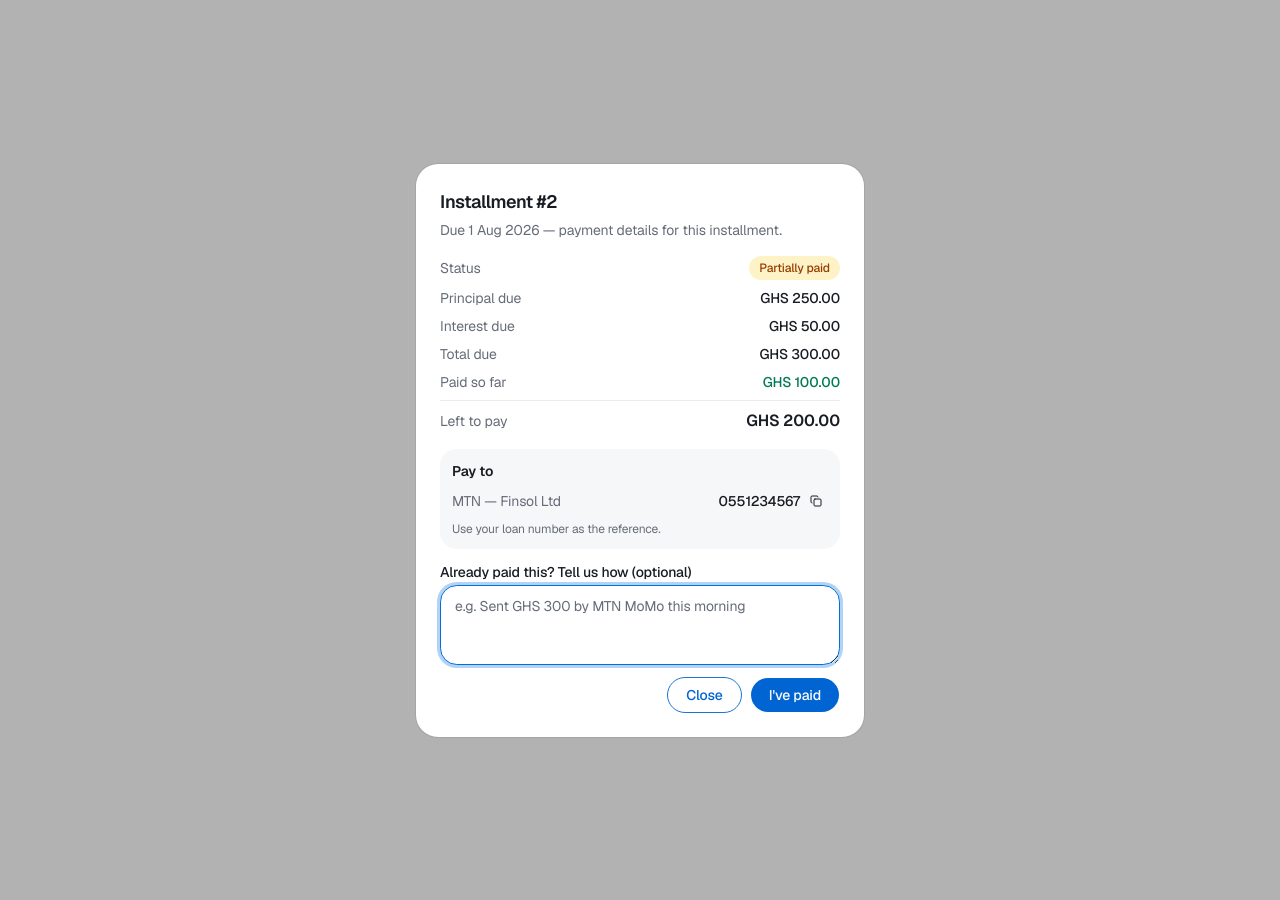
Test: InstallmentDetailDialog › sends an I've-paid claim with the note and confirms
The width and height of the screenshot is (1280, 900).
Type "Sent by MoMo" into the text box labelled "Already paid this? Tell us how (optional)". click: (640, 624)
box: [440,584,840,664]
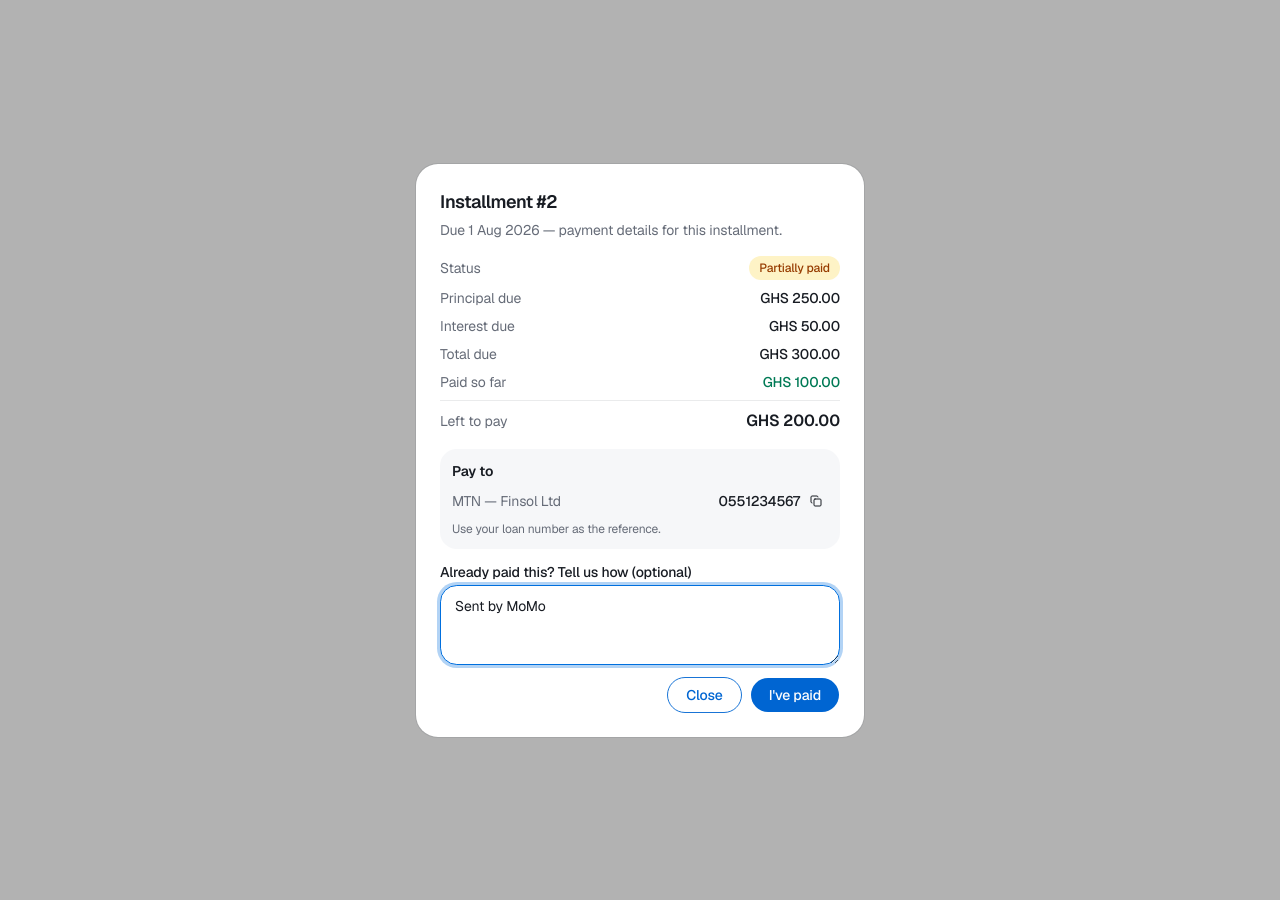
Click the button "I've paid". click: (795, 694)
box: [750,676,840,712]
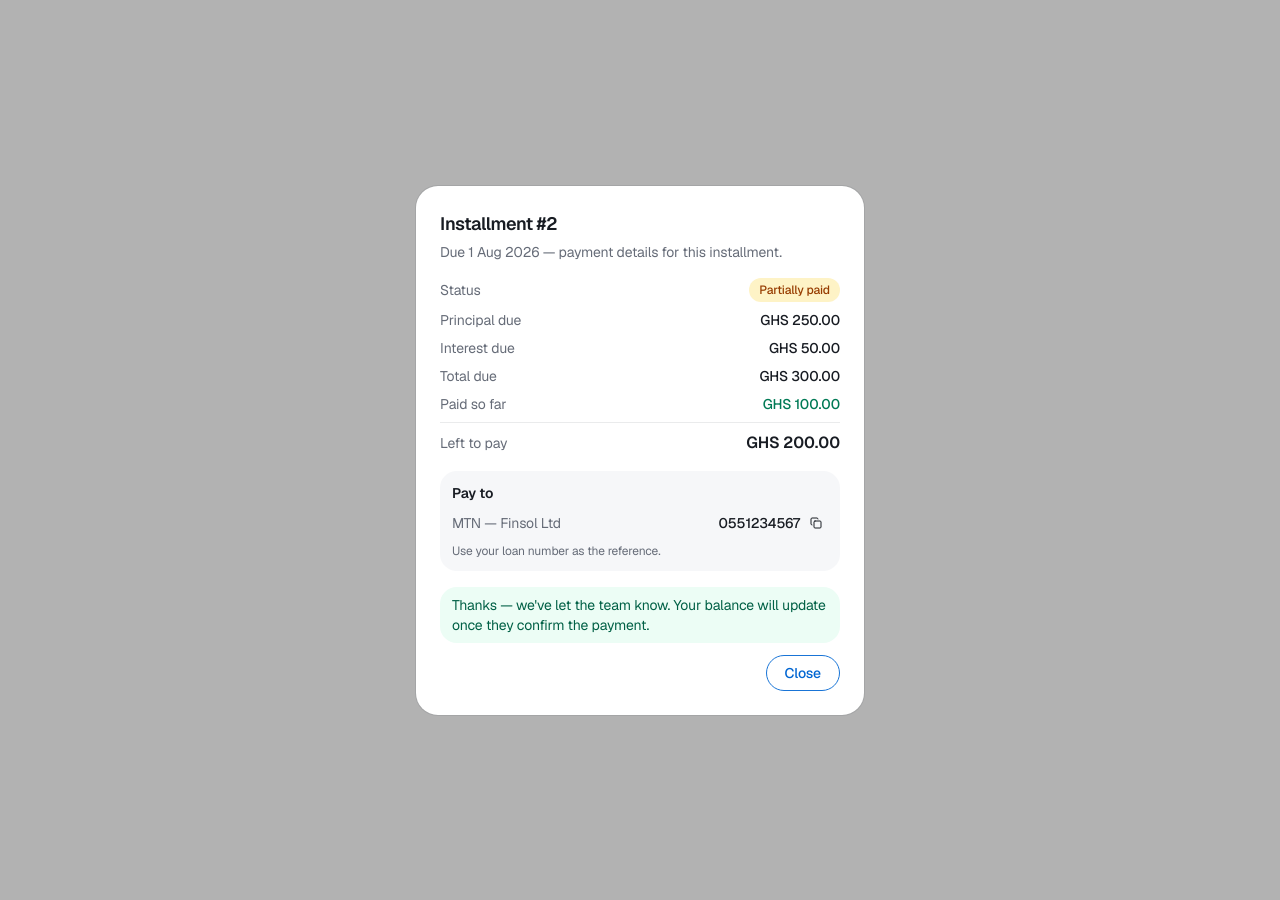
Result: the text "we've let the team know" is shown at [452,596,826,634]
